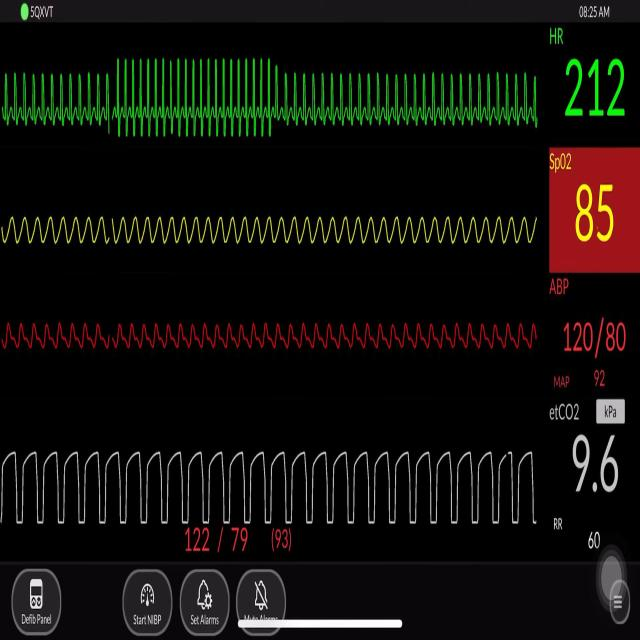danger: (292, 58, 542, 144), (110, 47, 285, 151), (8, 58, 100, 133)
